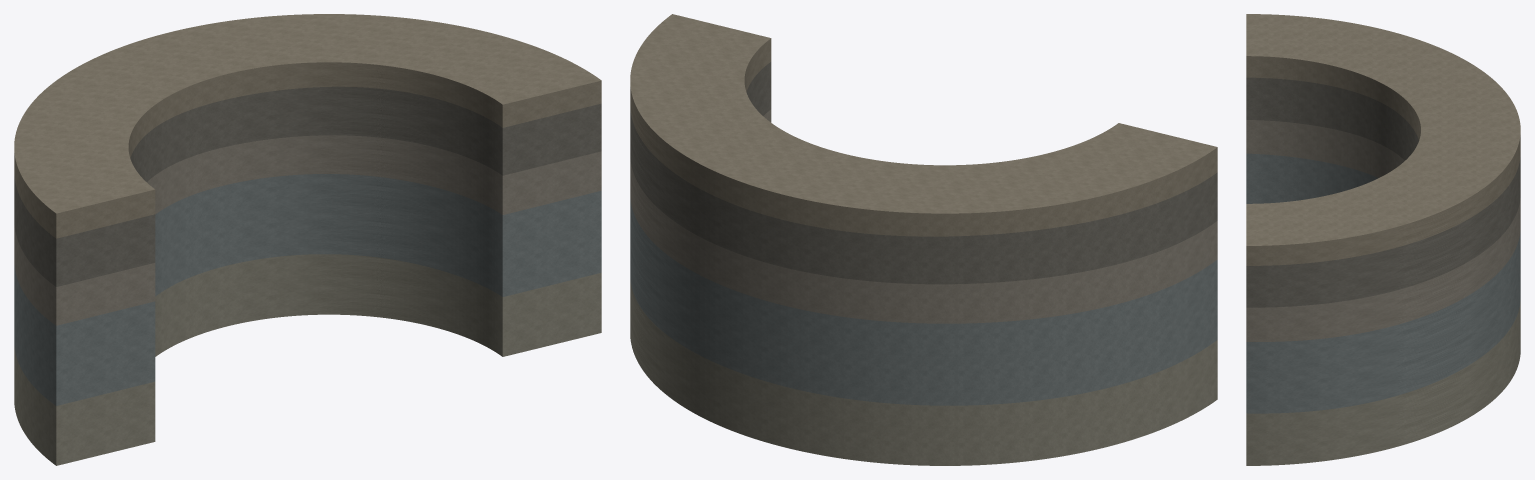
Rendered from soil-cutaway-rim.glb.
3 views of the same model, side by side, from view 1: azimuth 30°, elevation 25°; view 2: azimuth 150°, elevation 25°; view 3: azimuth 270°, elevation 25° (orthographic). The views are drawn at different scales.
Visible parts, largest first — view 1: Top_fill_schematic, Fine_silt_schematic, Dense_silt_schematic, Soft_clay_schematic, Silty_clay_schematic; view 2: Top_fill_schematic, Fine_silt_schematic, Dense_silt_schematic, Soft_clay_schematic, Silty_clay_schematic; view 3: Top_fill_schematic, Fine_silt_schematic, Soft_clay_schematic, Silty_clay_schematic, Dense_silt_schematic.
Boxes of the visible parts, bbox=[...] form: Top_fill_schematic: bbox=[14, 14, 601, 238]; Fine_silt_schematic: bbox=[14, 174, 601, 405]; Dense_silt_schematic: bbox=[14, 254, 601, 465]; Soft_clay_schematic: bbox=[14, 86, 601, 286]; Silty_clay_schematic: bbox=[14, 135, 601, 325]; Top_fill_schematic: bbox=[630, 14, 1217, 236]; Fine_silt_schematic: bbox=[630, 199, 1217, 405]; Dense_silt_schematic: bbox=[630, 280, 1217, 465]; Soft_clay_schematic: bbox=[630, 62, 1217, 284]; Silty_clay_schematic: bbox=[630, 109, 1217, 323]; Top_fill_schematic: bbox=[1246, 14, 1520, 265]; Fine_silt_schematic: bbox=[1246, 153, 1520, 413]; Soft_clay_schematic: bbox=[1246, 77, 1520, 307]; Silty_clay_schematic: bbox=[1246, 120, 1520, 341]; Dense_silt_schematic: bbox=[1246, 302, 1520, 465].
Bounding box in the file's own units: 190 × 84 × 95.
5 materials, 5 textured.
